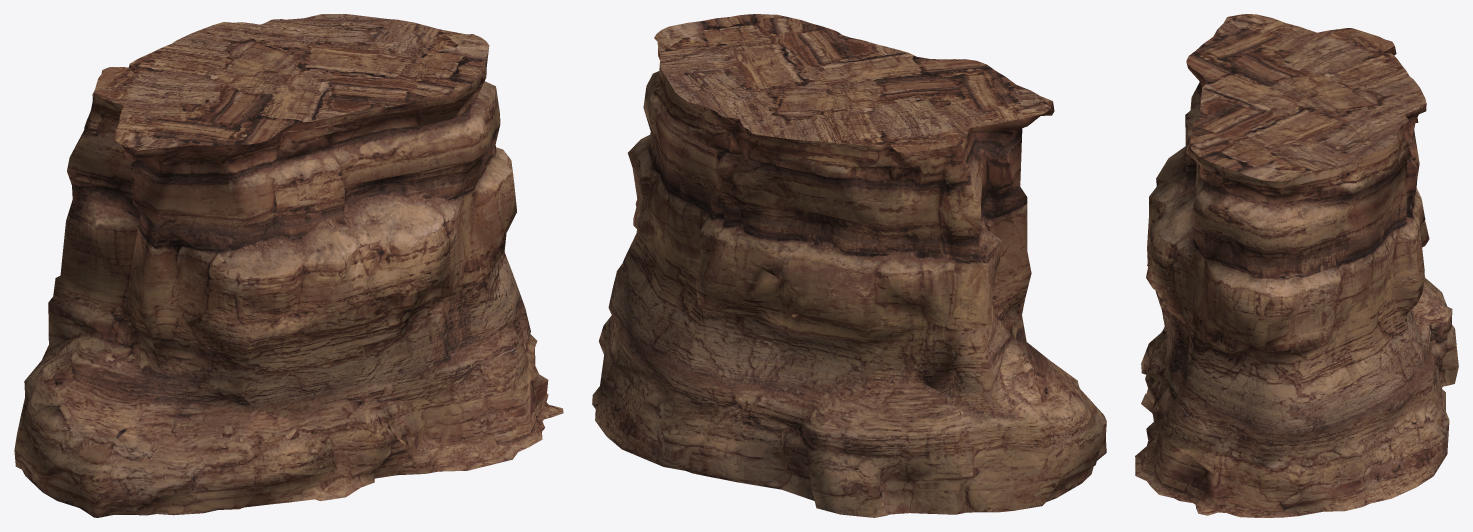
Rendered from Mesh_Cliff_Plateau_01_AP.fbx.
The picture shows the model from 3 angles, left to right: view 1: azimuth 30°, elevation 25°; view 2: azimuth 150°, elevation 25°; view 3: azimuth 270°, elevation 25°; orthographic projection. The views are drawn at different scales.
Parts seen in each view (by area): view 1: Mesh_Cliff_Plateau_01_AP; view 2: Mesh_Cliff_Plateau_01_AP; view 3: Mesh_Cliff_Plateau_01_AP.
Part boxes in pixels (x1,y1,x2,y2): Mesh_Cliff_Plateau_01_AP: [14, 14, 563, 517]; Mesh_Cliff_Plateau_01_AP: [592, 14, 1106, 517]; Mesh_Cliff_Plateau_01_AP: [1135, 14, 1458, 517].
Bounding box in the file's own units: 4866 × 3302 × 3062.
